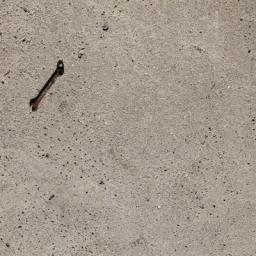FOD: (27, 57, 69, 115)
